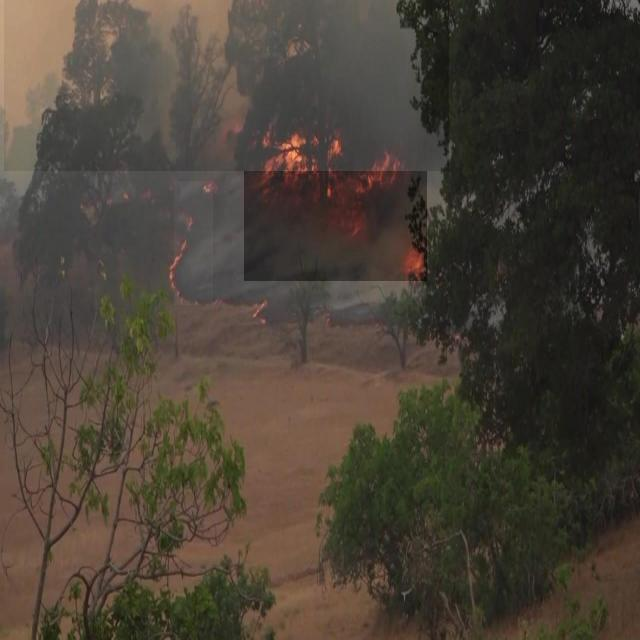Fire: (244, 117, 427, 281), (174, 181, 213, 305)
Smoke: (4, 0, 449, 171)
